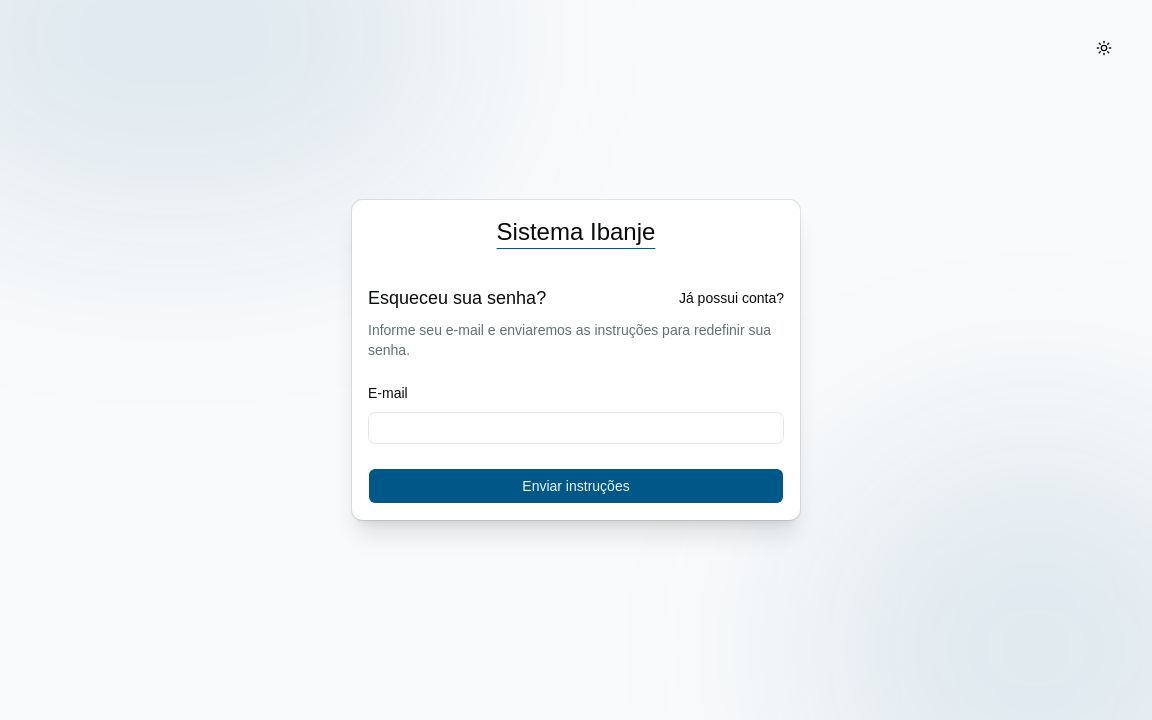
Scenario: ForgotPasswordPage › disables the submit button while sending
Type "user@example.com" into the field labelled "E-mail" at (576, 428), box top-left (368, 412), bottom-right (784, 444)
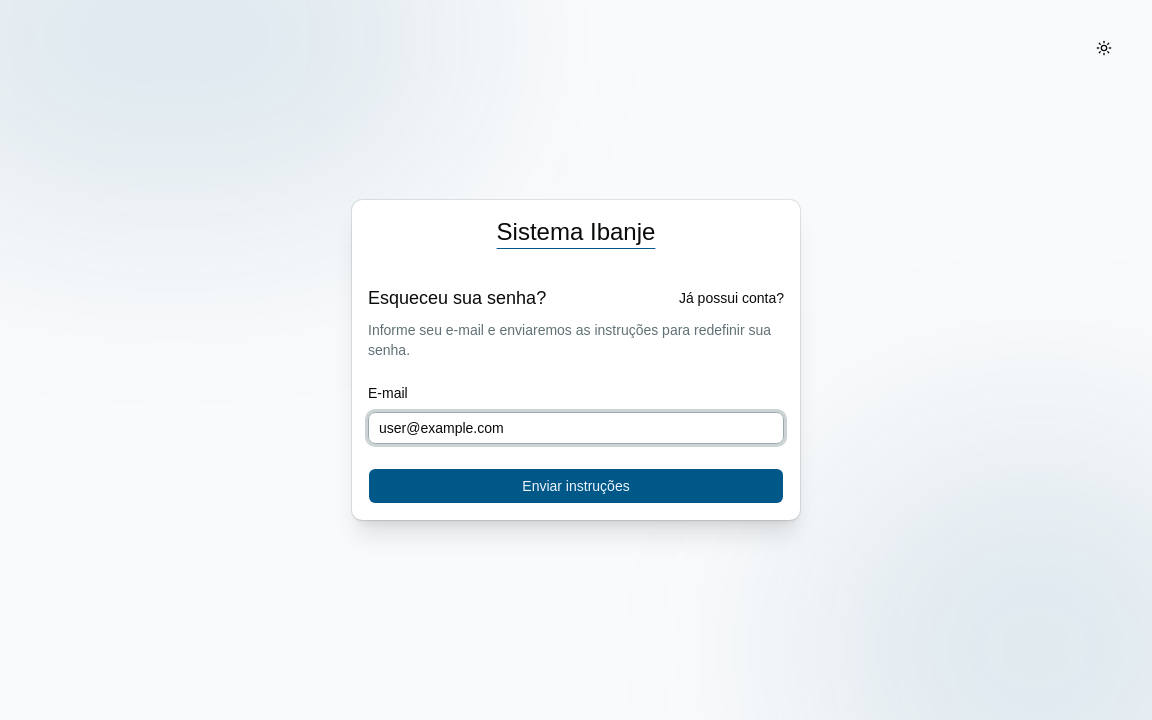
Click the button "Enviar instruções" at (576, 486), box top-left (368, 468), bottom-right (784, 504)
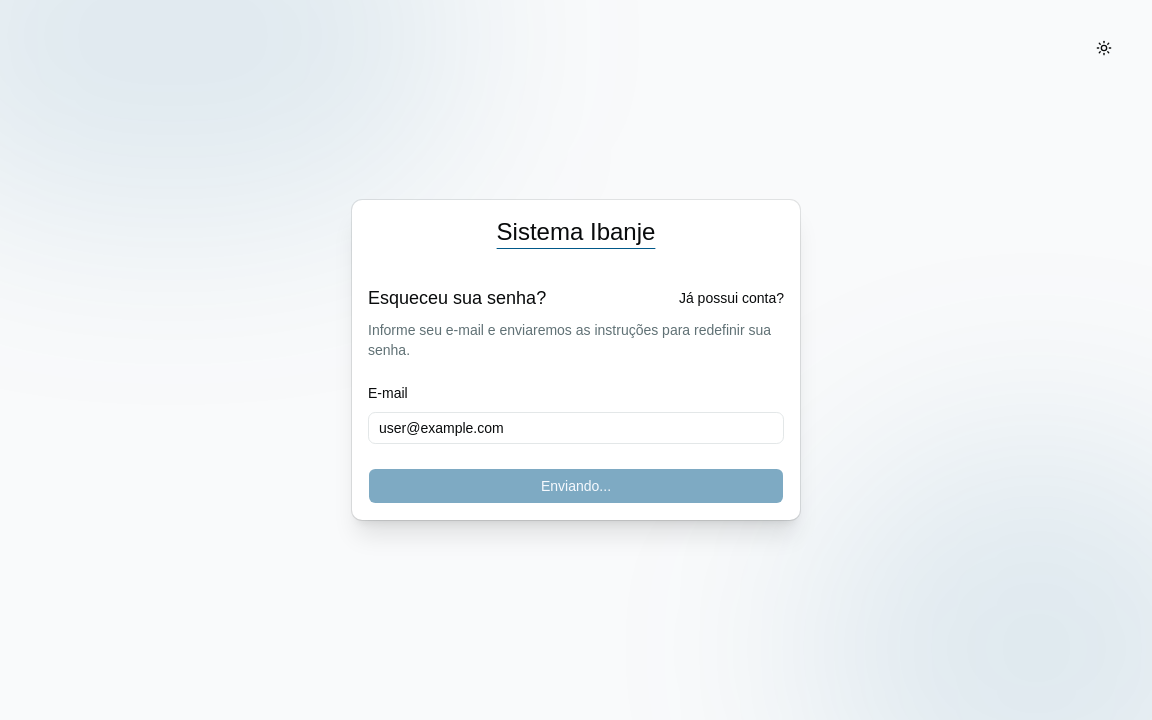
Result: the button named "enviar instruções" reads "Enviando..." at top-left (368, 468), bottom-right (784, 504)
